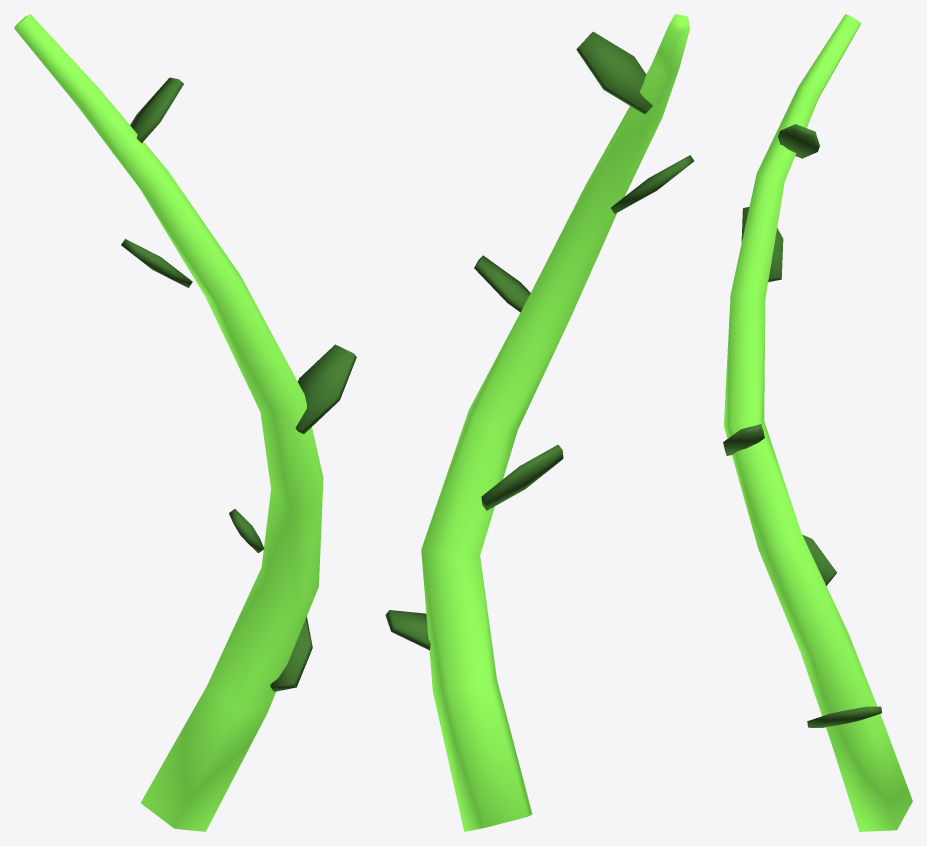
File: vine_long.glb
3 renders of one model, left to right at view 1: azimuth 30°, elevation 25°; view 2: azimuth 150°, elevation 25°; view 3: azimuth 270°, elevation 25°, orthographic. The views are drawn at different scales.
Parts seen in each view (by area): view 1: part.vine_long; view 2: part.vine_long; view 3: part.vine_long.
Boxes of the visible parts, <box> form: part.vine_long: <box>14,14,356,831</box>; part.vine_long: <box>385,14,694,831</box>; part.vine_long: <box>723,14,912,831</box>.
Size of the model in its own units: 0.5418 by 1.49 by 0.3458.
